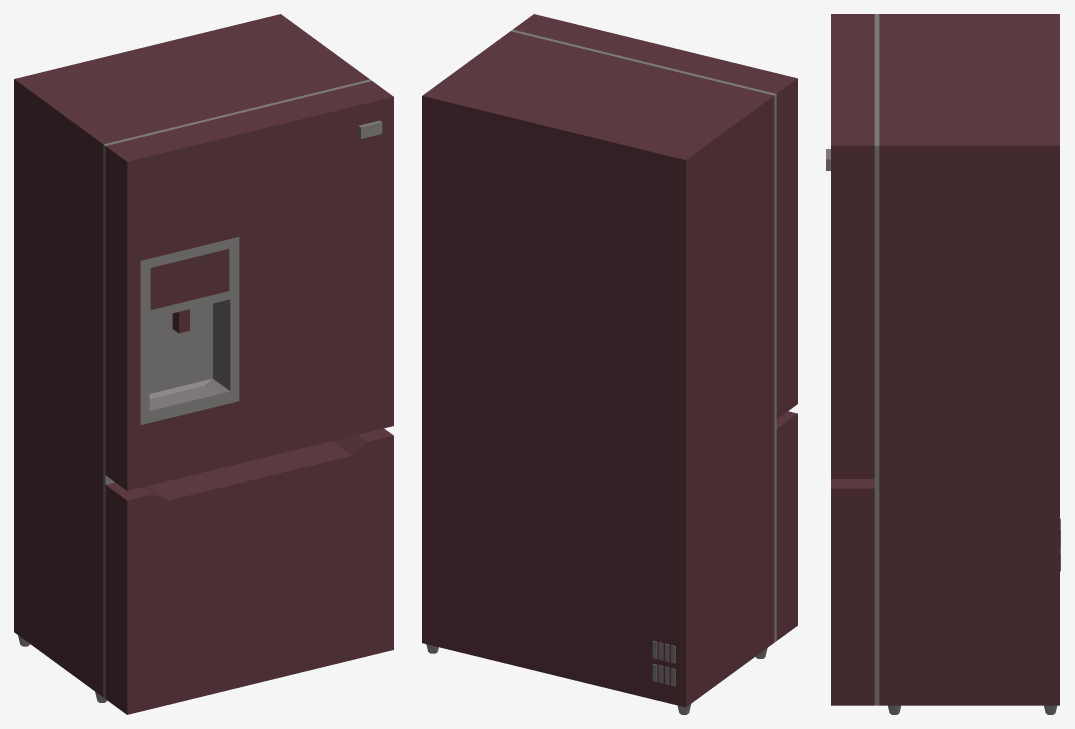
Rendered from fridge-modern.fbx.
The picture shows the model from 3 angles, left to right: view 1: azimuth 30°, elevation 25°; view 2: azimuth 150°, elevation 25°; view 3: azimuth 270°, elevation 25°; orthographic projection. The views are drawn at different scales.
Visible parts, largest first — view 1: fridge-modern; view 2: fridge-modern; view 3: fridge-modern.
Part boxes in pixels (x1=…): fridge-modern: x1=14, y1=14, x2=393, y2=714; fridge-modern: x1=422, y1=14, x2=797, y2=714; fridge-modern: x1=826, y1=14, x2=1060, y2=714.
Bounding box in the file's own units: 0.9265 × 1.87 × 0.6982.
